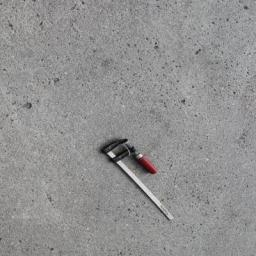FOD: (100, 137, 177, 223)
